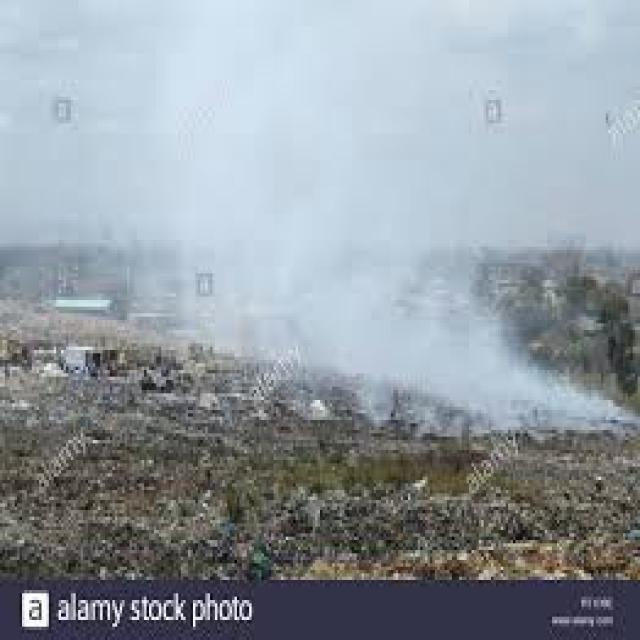Smoke: (232, 110, 638, 433)
